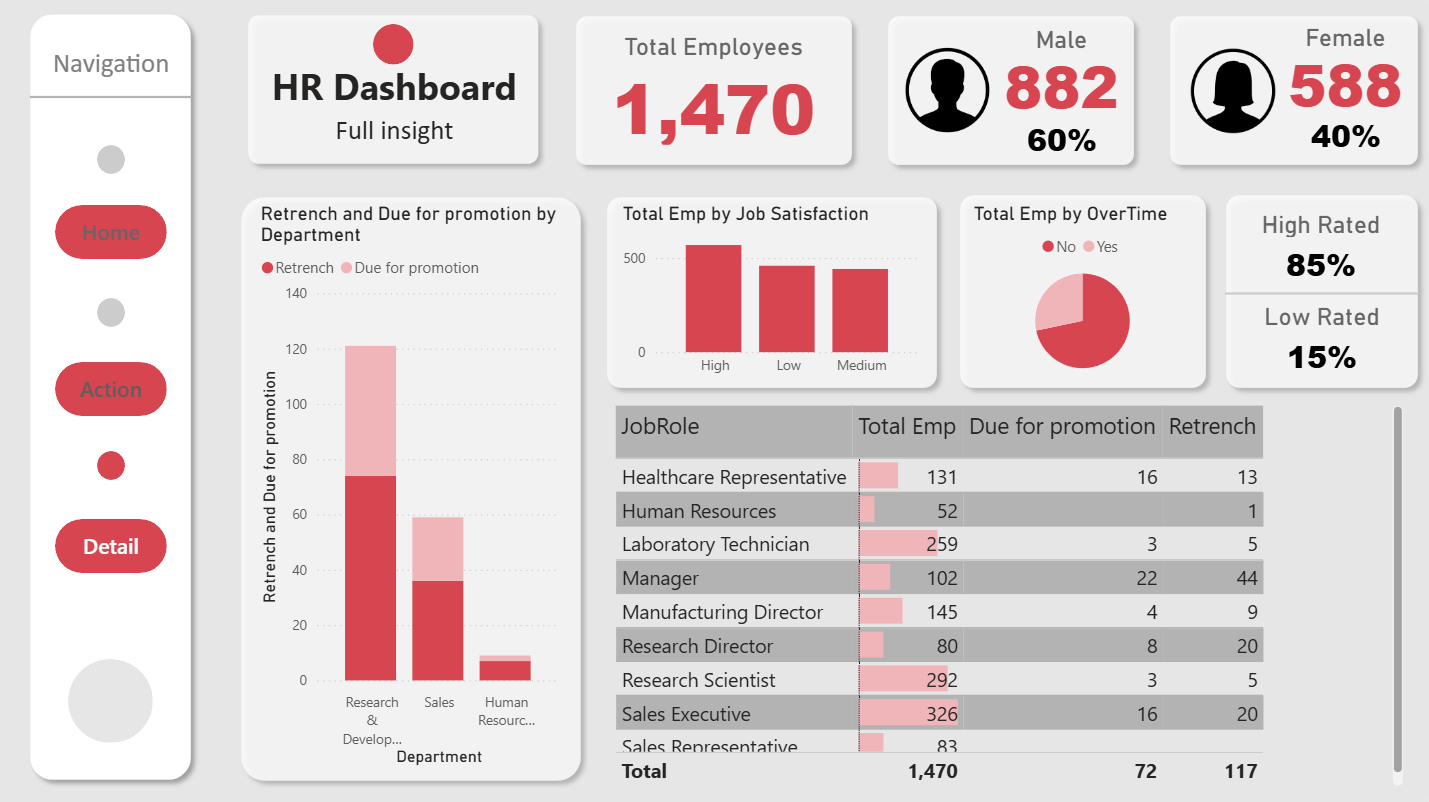

The page's visual inventory and layout, read from the dashboard file:
{"tool":"powerbi","page":{"name":"Detail","canvas":[1280,720],"ordinal":2},"visuals":[{"type":"shape","box":[225.4,9.7,275.3,149.8],"z":1000},{"type":"shape","box":[516.1,10.6,262.5,149.9],"z":2000},{"type":"shape","box":[792.7,10.6,235.9,149.9],"z":3000},{"type":"shape","box":[1042.8,10.6,237.6,149.9],"z":4000},{"type":"textbox","box":[240,54.5,247.1,59.3],"z":5000},{"type":"textbox","box":[240,100.2,247.1,59.3],"z":6000},{"type":"shape","box":[345,26.3,36,36],"z":7000},{"type":"card","title":"Total Employees","fields":{"Values":["All Measures.Total Emp"]},"box":[538.2,33.7,217.2,104.6],"z":8000},{"type":"card","title":"Male","fields":{"Values":["All Measures.Male"]},"box":[899.1,27.5,112.6,80.7],"z":9000},{"type":"card","title":"Male","fields":{"Values":["All Measures.% male"]},"box":[910.6,68.3,90.4,123.3],"z":10000},{"type":"card","title":"Female","fields":{"Values":["All Measures.Female"]},"box":[1150.9,25.7,112.6,80.7],"z":11000},{"type":"card","title":"Male","fields":{"Values":["All Measures.% female"]},"box":[1162.5,64.7,90.4,123.3],"z":12000},{"type":"image","box":[808.7,41.7,90.4,86.9],"z":13000},{"type":"image","box":[1064,43.4,86.9,85.1],"z":14000},{"type":"shape","box":[219,171.1,319.2,535.6],"z":15000},{"type":"columnChart","fields":{"Category":["HR Analytics Data.Department"],"Y":["All Measures.retrench","All Measures.Due for promotion"]},"box":[240.3,184.4,275.8,504.5],"z":16000},{"type":"shape","box":[543.5,171.1,310.3,187.1],"z":17000},{"type":"columnChart","fields":{"Y":["All Measures.Total Emp"],"Category":["HR Analytics Data.Job Satisfaction"]},"box":[561.3,184.4,274,163.2],"z":18000},{"type":"shape","box":[856.6,169.4,235.9,188.9],"z":19000},{"type":"pieChart","fields":{"Y":["All Measures.Total Emp"],"Category":["HR Analytics Data.OverTime"]},"box":[872.5,184.4,203.1,163.2],"z":20000},{"type":"tableEx","fields":{"Values":["HR Analytics Data.JobRole","All Measures.Total Emp","All Measures.Due for promotion","All Measures.retrench"]},"box":[554.2,360,709.4,346.7],"z":21000},{"type":"shape","box":[1092.4,169.4,188,188.9],"z":22000},{"type":"shape","box":[1100.4,250,172,31],"z":23000},{"type":"card","title":"High Rated","fields":{"Values":["All Measures.high rated %"]},"box":[1107.5,191.5,156.1,74.5],"z":24000},{"type":"card","title":"Low Rated","fields":{"Values":["All Measures.low rated %"]},"box":[1108.4,273.1,156.1,74.5],"z":25000},{"type":"shape","box":[31.9,8.9,160.5,696.9],"z":25001},{"type":"textbox","box":[55.9,40.8,119.7,39.9],"z":25002},{"type":"shape","box":[40.8,83.3,143.6,16],"z":25003},{"type":"shape","box":[100.2,133.9,24.8,25.7],"z":25004},{"type":"actionButton","title":"Home","box":[63,326.3,99.3,47.9],"z":25005},{"type":"shape","box":[100.2,269.6,24.8,25.7],"z":25006},{"type":"actionButton","title":"Home","box":[63,187.1,99.3,47.9],"z":25007},{"type":"shape","box":[100.2,405.2,24.8,25.7],"z":25008},{"type":"shape","box":[74.5,589.7,75.4,74.5],"z":25009},{"type":"actionButton","title":"Home","box":[63,465.5,99.3,47.9],"z":25010}]}

Visuals, with their boxes in screenshot pixels (x1, y1, x2, y2), scaled from the page's 1280x720 canvas onto the 1429x802 screenshot:
shape: region(252, 11, 559, 178)
shape: region(576, 12, 869, 179)
shape: region(885, 12, 1148, 179)
shape: region(1164, 12, 1428, 179)
textbox: region(268, 61, 544, 127)
textbox: region(268, 112, 544, 178)
shape: region(385, 29, 425, 69)
"Total Employees" card: region(601, 38, 843, 154)
"Male" card: region(1004, 31, 1129, 121)
"Male" card: region(1017, 76, 1118, 213)
"Female" card: region(1285, 29, 1411, 119)
"Male" card: region(1298, 72, 1399, 209)
image: region(903, 46, 1004, 143)
image: region(1188, 48, 1285, 143)
shape: region(244, 191, 601, 787)
columnChart - HR Analytics Data.Department x All Measures.retrench: region(268, 205, 576, 767)
shape: region(607, 191, 953, 399)
columnChart - All Measures.Total Emp x HR Analytics Data.Job Satisfaction: region(627, 205, 933, 387)
shape: region(956, 189, 1220, 399)
pieChart - All Measures.Total Emp x HR Analytics Data.OverTime: region(974, 205, 1201, 387)
tableEx - HR Analytics Data.JobRole x All Measures.Total Emp: region(619, 401, 1411, 787)
shape: region(1220, 189, 1428, 399)
shape: region(1228, 278, 1421, 313)
"High Rated" card: region(1236, 213, 1411, 296)
"Low Rated" card: region(1237, 304, 1412, 387)
shape: region(36, 10, 215, 786)
textbox: region(62, 45, 196, 90)
shape: region(46, 93, 206, 111)
shape: region(112, 149, 140, 178)
"Home" actionButton: region(70, 363, 181, 417)
shape: region(112, 300, 140, 329)
"Home" actionButton: region(70, 208, 181, 262)
shape: region(112, 451, 140, 480)
shape: region(83, 657, 167, 740)
"Home" actionButton: region(70, 519, 181, 572)
